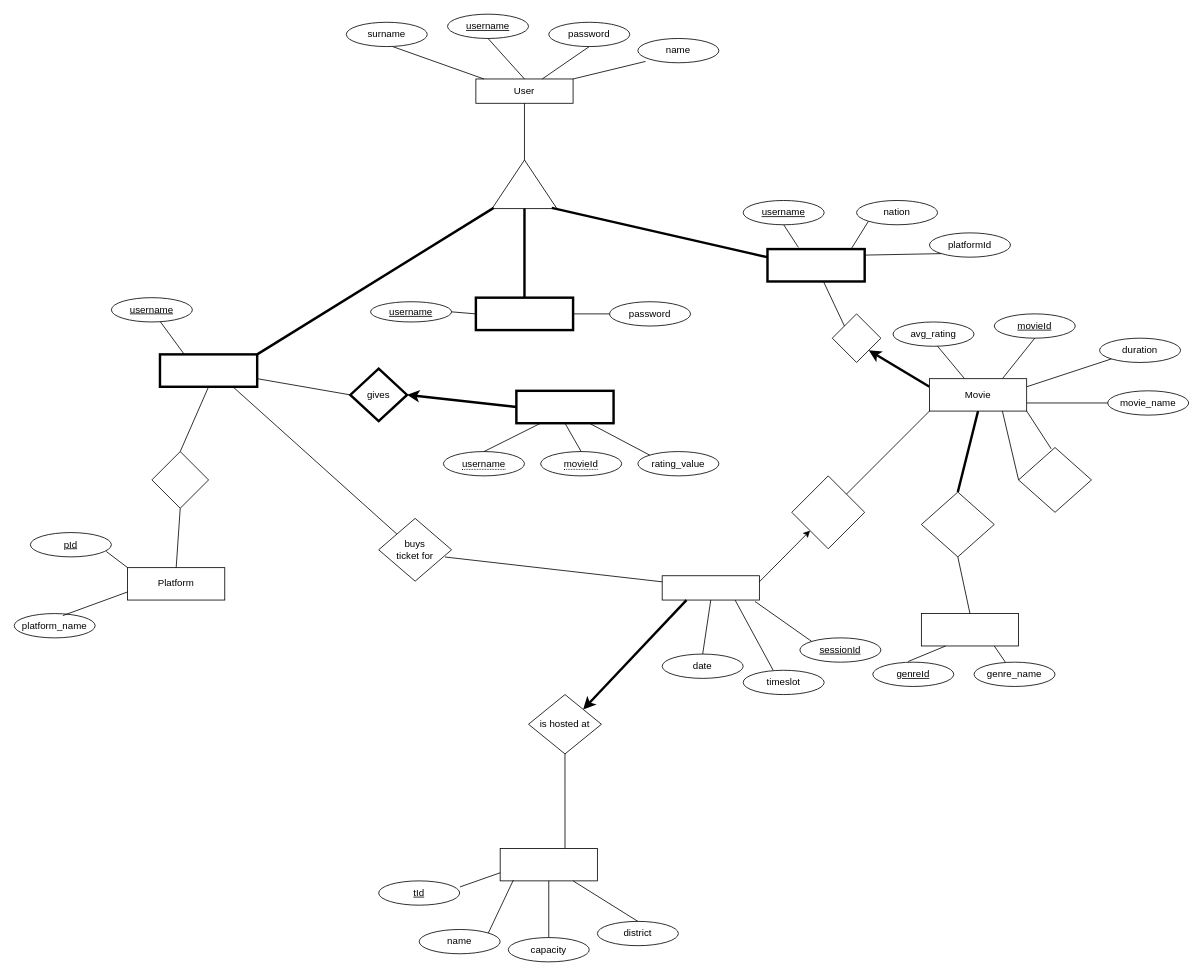
Image size: 1203x976. Some labels were removed from this diagram. The shapes that lost their labels are listed below. From the top down, each one's box as (x1, y1, x2, y2) in pixels, then its label:
(491, 159, 557, 209): ISA
(766, 247, 865, 282): Director
(474, 296, 574, 331): DB Manager
(831, 313, 881, 362): directs
(158, 353, 258, 388): Audience
(515, 389, 614, 424): Rating
(151, 451, 209, 508): subscribes to
(1018, 447, 1091, 512): predecessor of
(791, 475, 865, 549): is displayed at
(921, 491, 994, 557): has
(661, 575, 759, 600): Session
(921, 613, 1019, 646): Genre
(499, 848, 597, 881): Theatre
